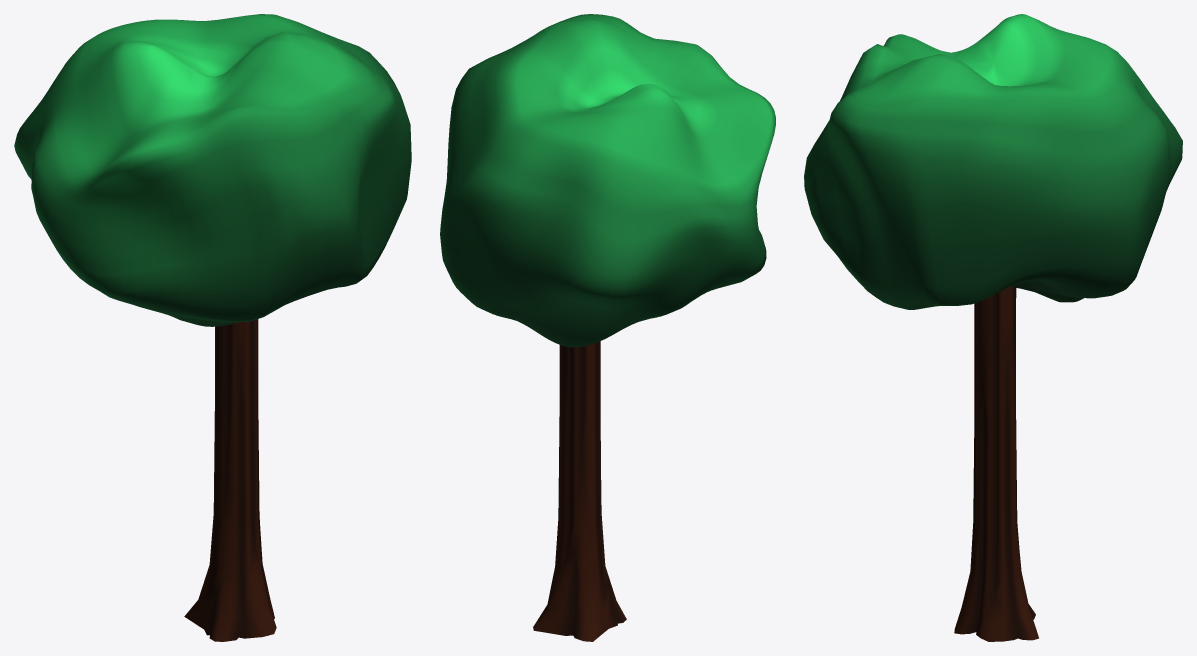
File: Straight Tree 1.fbx
The picture shows the model from 3 angles, left to right: view 1: azimuth 30°, elevation 25°; view 2: azimuth 150°, elevation 25°; view 3: azimuth 270°, elevation 25°; orthographic projection. The views are drawn at different scales.
Visible parts, largest first — view 1: polySurface120; view 2: polySurface120; view 3: polySurface120.
Part boxes in pixels (<box>): polySurface120: <box>14,14,411,641</box>; polySurface120: <box>440,14,775,641</box>; polySurface120: <box>804,14,1182,641</box>.
Size of the model in its own units: 7 by 12.4 by 7.37.
